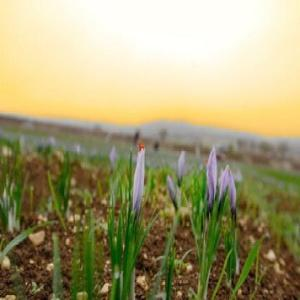Saffron: (212, 167, 240, 212), (132, 146, 146, 216), (206, 146, 220, 211), (165, 176, 177, 211)
